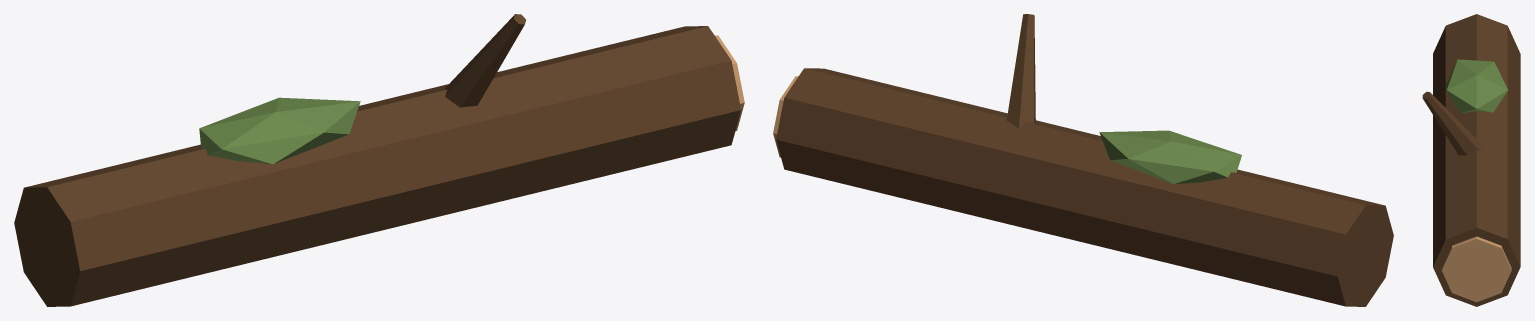
Rendered from fallen_log.glb.
3 renders of one model, left to right at view 1: azimuth 30°, elevation 25°; view 2: azimuth 150°, elevation 25°; view 3: azimuth 270°, elevation 25°, orthographic. The views are drawn at different scales.
Visible parts, largest first — view 1: fallen_log; view 2: fallen_log; view 3: fallen_log.
Part boxes in pixels (<box>): fallen_log: <box>14,14,744,306</box>; fallen_log: <box>773,14,1393,306</box>; fallen_log: <box>1422,14,1520,306</box>.
Bounding box in the file's own units: 5.28 × 1.6 × 1.01.
